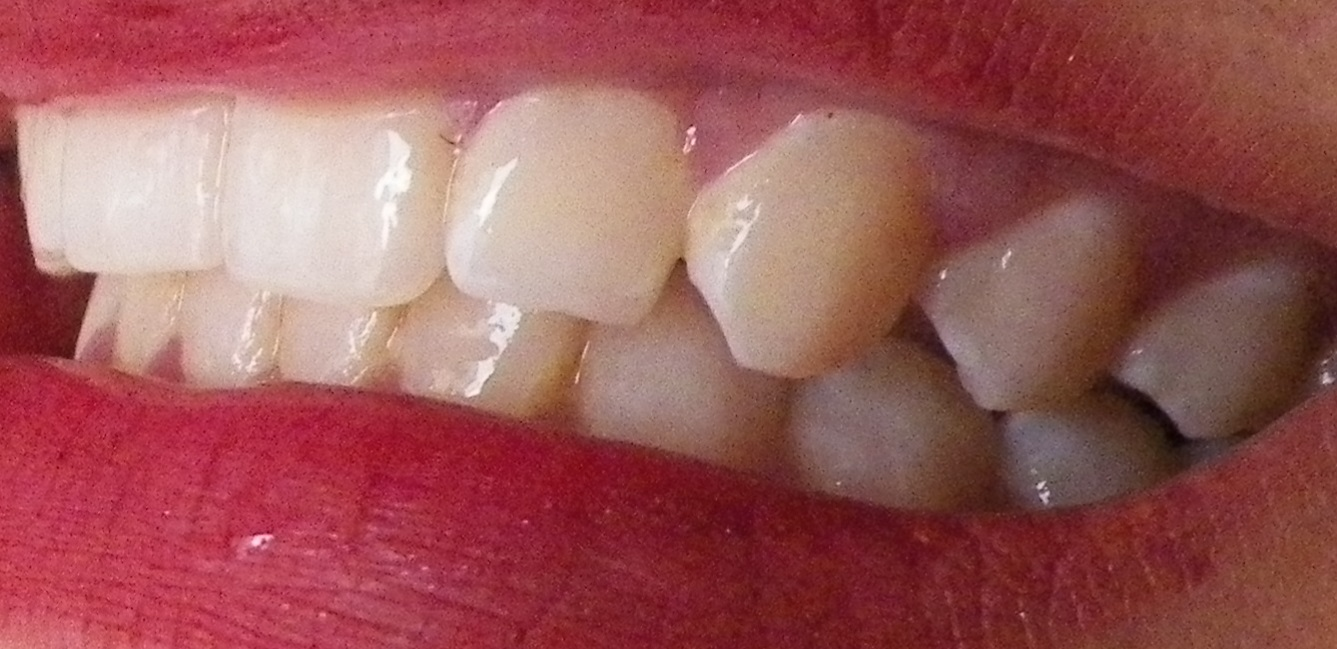boca: (8, 112, 1282, 501)
